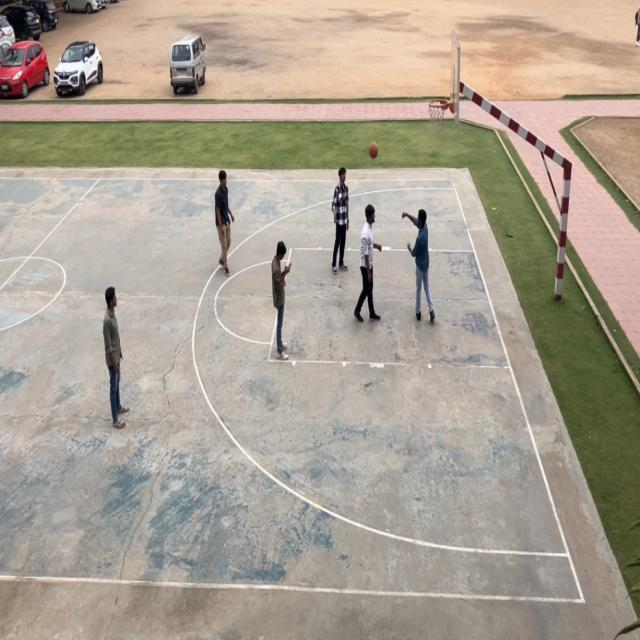basketball: (366, 136, 382, 168)
hoop: (428, 97, 448, 136)
